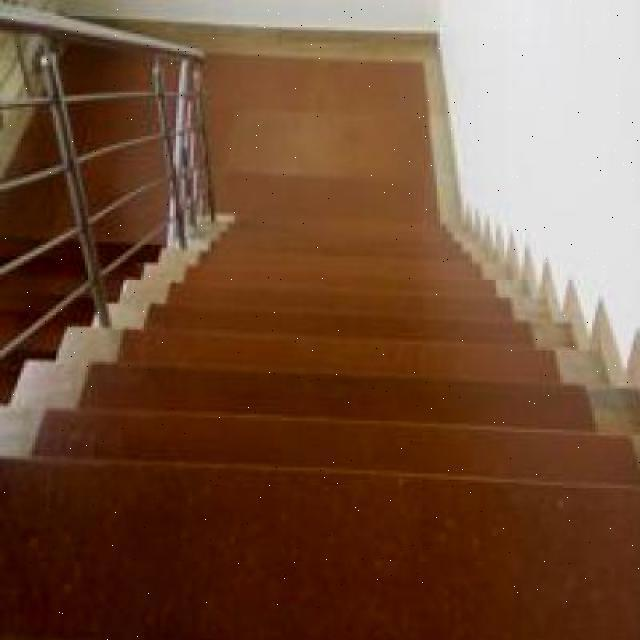stair: (32, 290, 630, 554)
